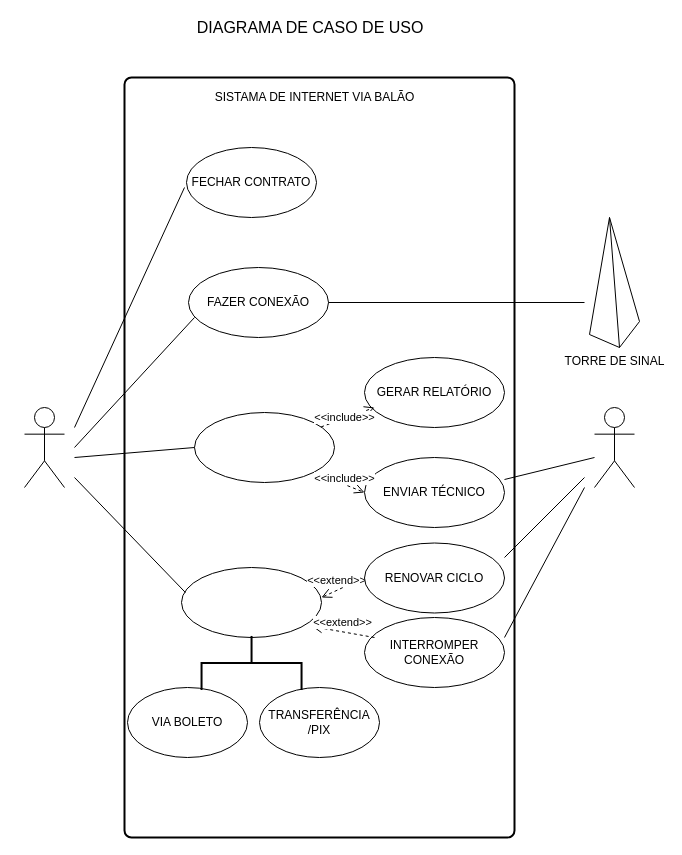
Some shapes in this 682 by 855 pixel diagram are drawn without their labels. The shapes that lost their labels are listed below. From the top down, each one's box as (x1, y1, x2, y2) in pixels, then its label:
(24, 406, 64, 488): USUÁRIO
(194, 412, 334, 482): SOLICITAR MANUTENÇÃO
(594, 406, 634, 488): ADMNISTRADOR
(180, 566, 322, 638): EFETUAR PAGAMENTO
